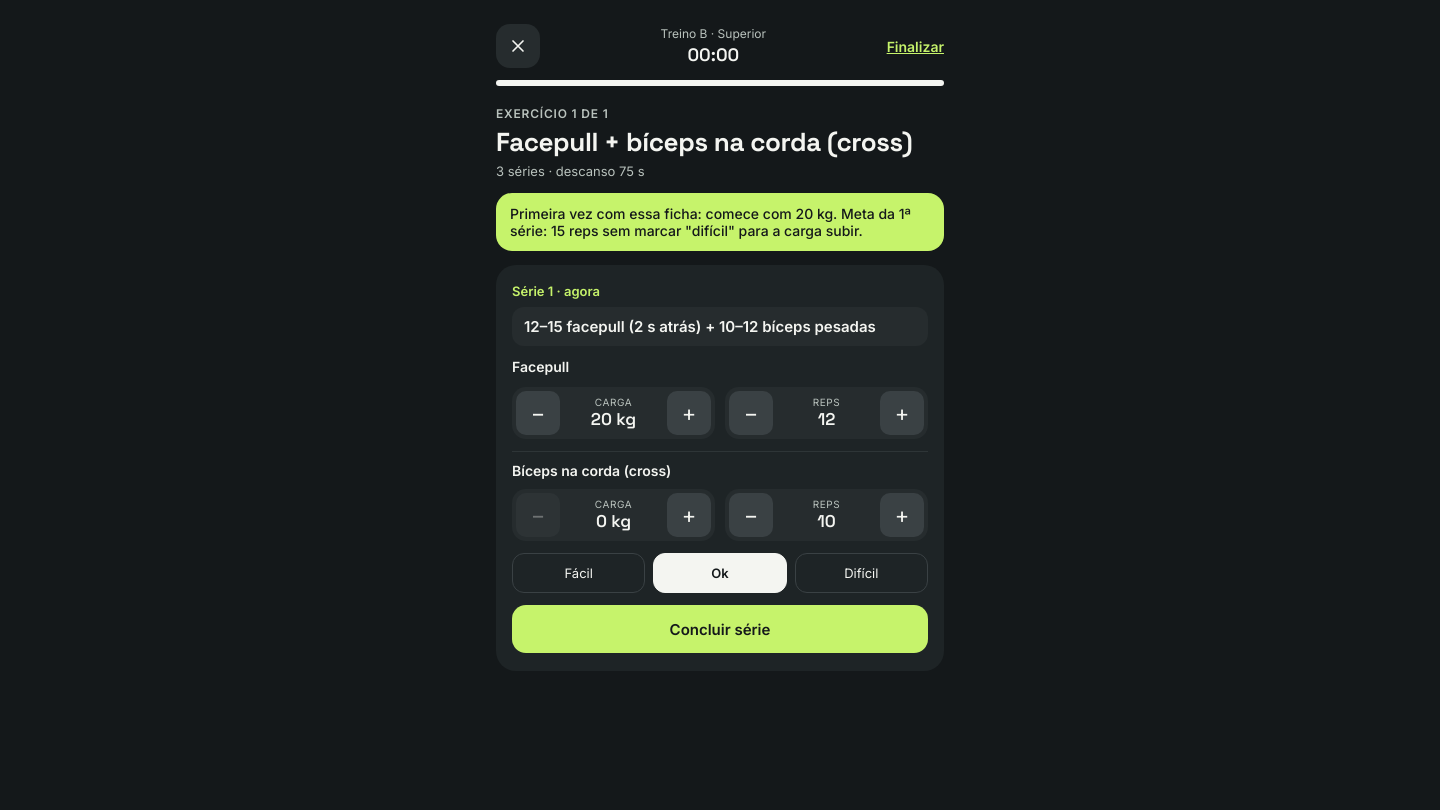
Scenario: exercícios conjugados › cada parte tem a sua carga e as suas repetições
Check: the text "Bíceps na corda (cross)" is shown, box [512,462,671,479]
Click the button named "Aumentar carga · bíceps na corda (cross)" at (689, 515), box [667,493,711,537]
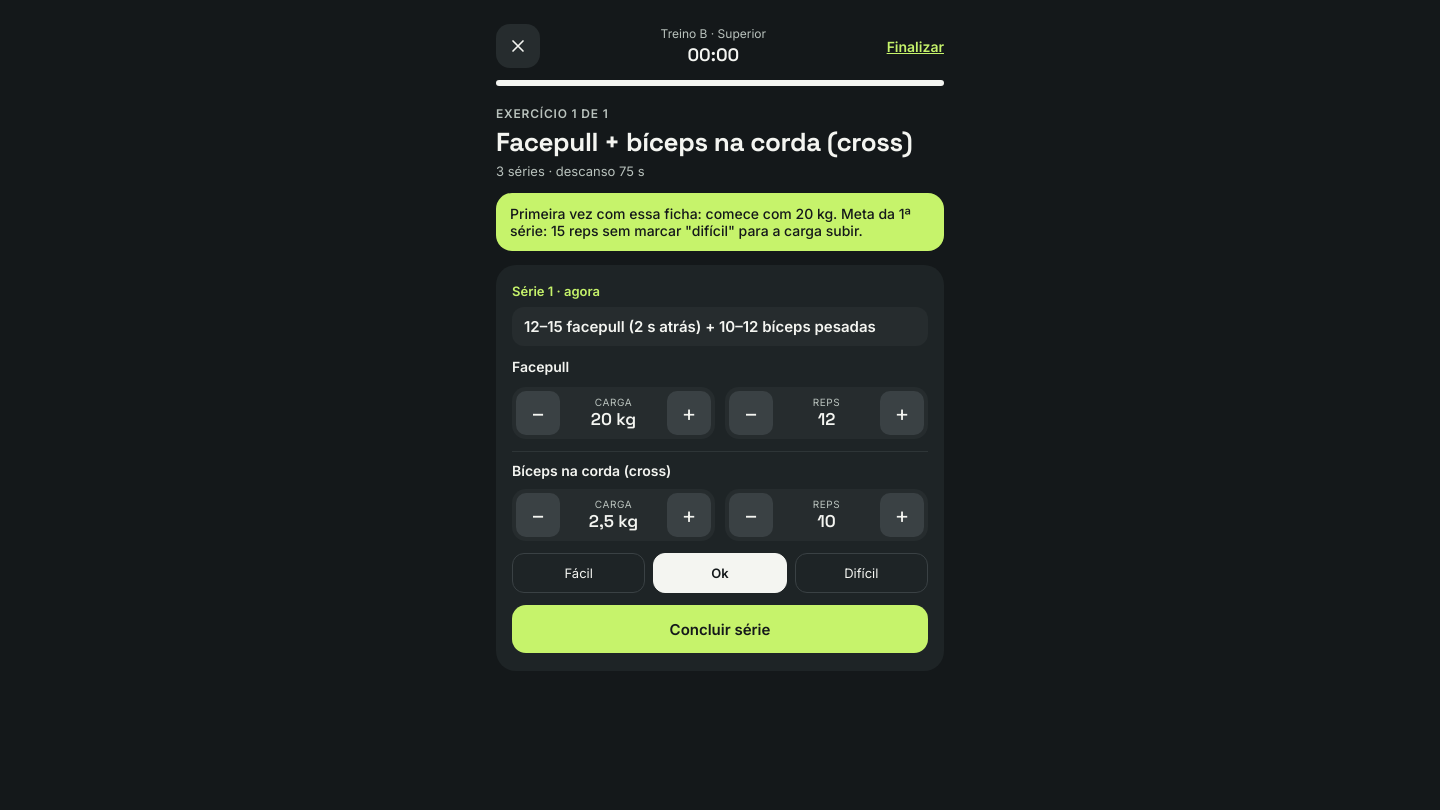
Click the button named "Aumentar carga · bíceps na corda (cross)" at (689, 515), box [667,493,711,537]
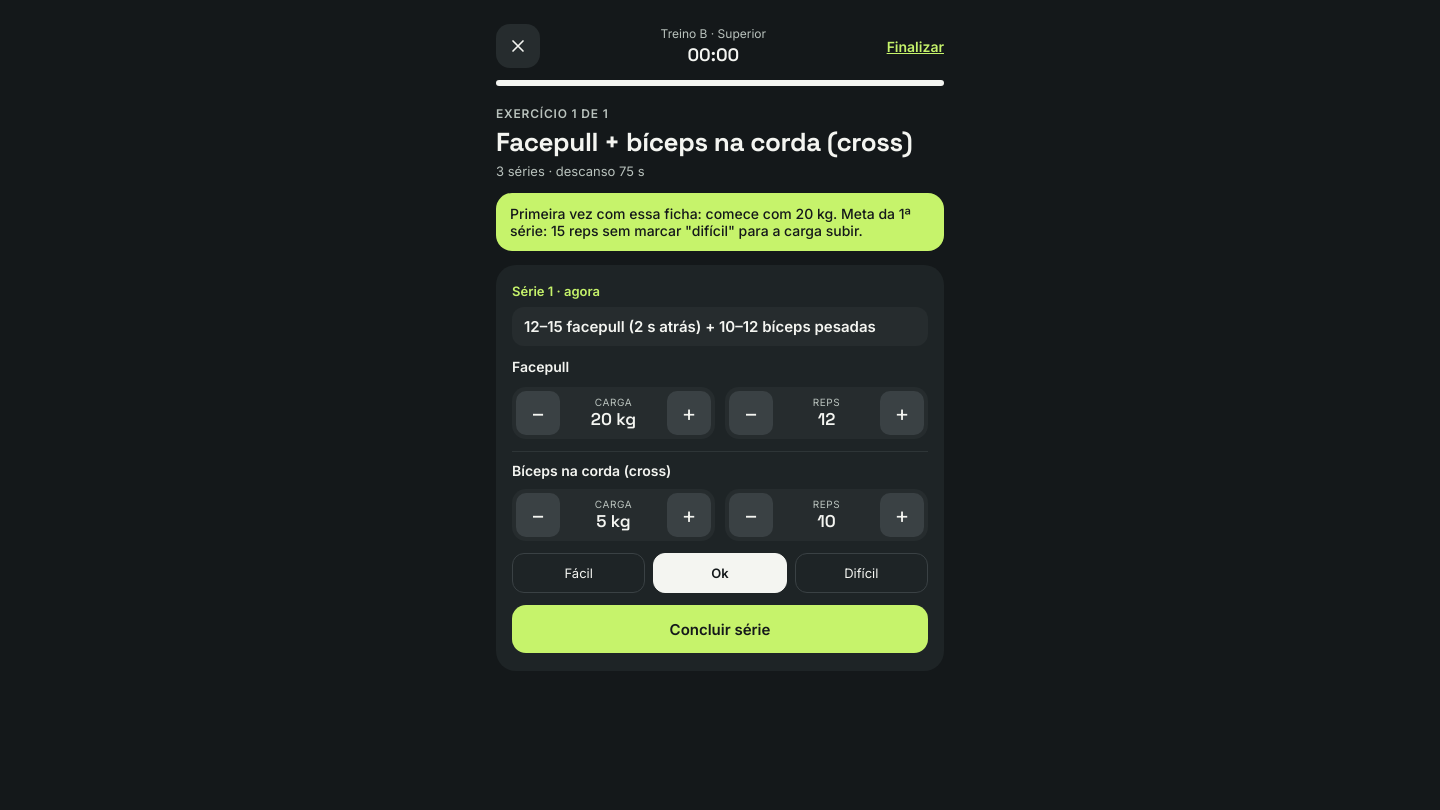
Click the button named "Aumentar carga · bíceps na corda (cross)" at (689, 515), box [667,493,711,537]
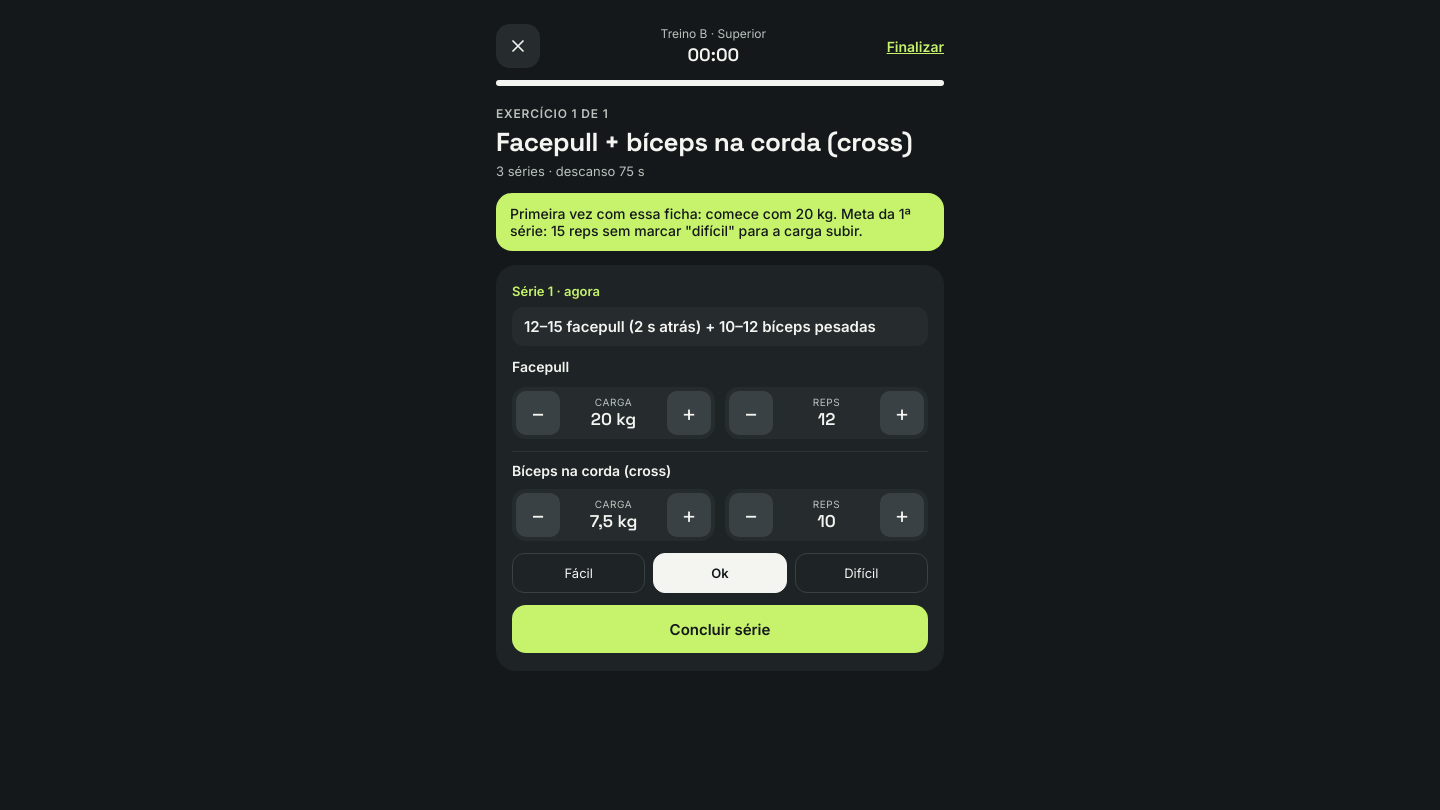
Click the button named "Aumentar carga · bíceps na corda (cross)" at (689, 515), box [667,493,711,537]
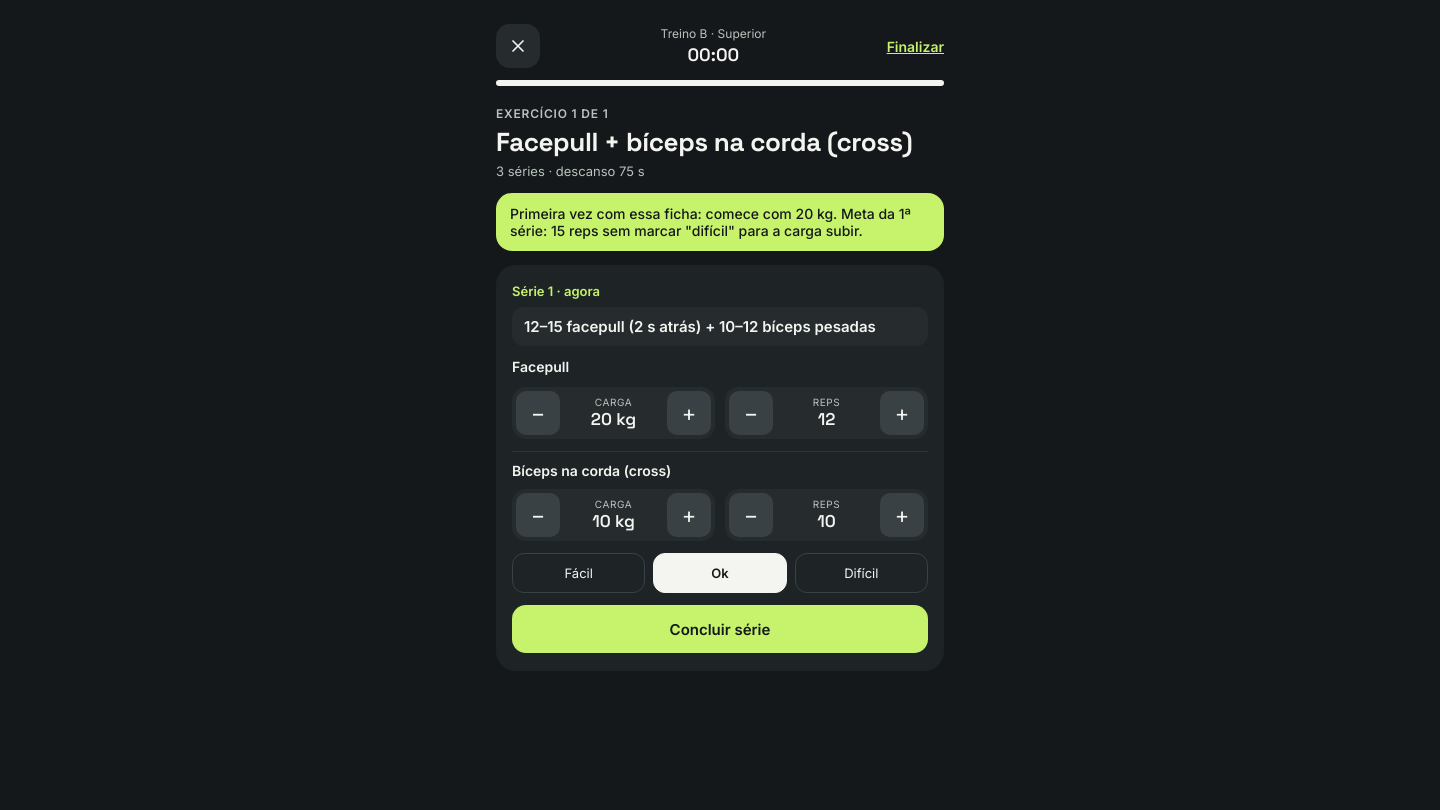
Click the button "Concluir série" at (720, 629), box [512,605,928,653]
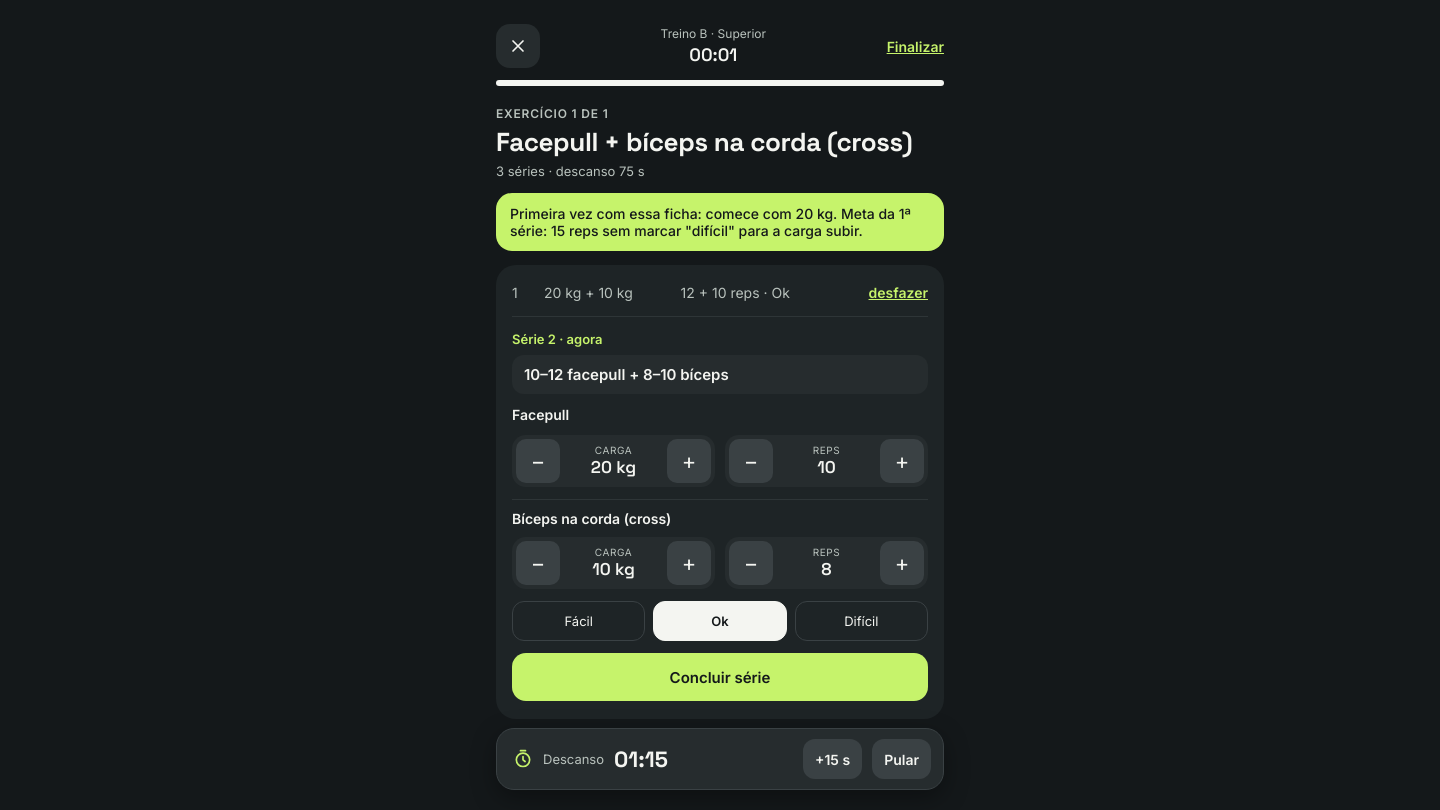
Check: the text "20 kg + 10 kg" is shown, box [544,284,633,301]
Check: the text "12 + 10 reps · Ok" is shown, box [681,284,790,301]
